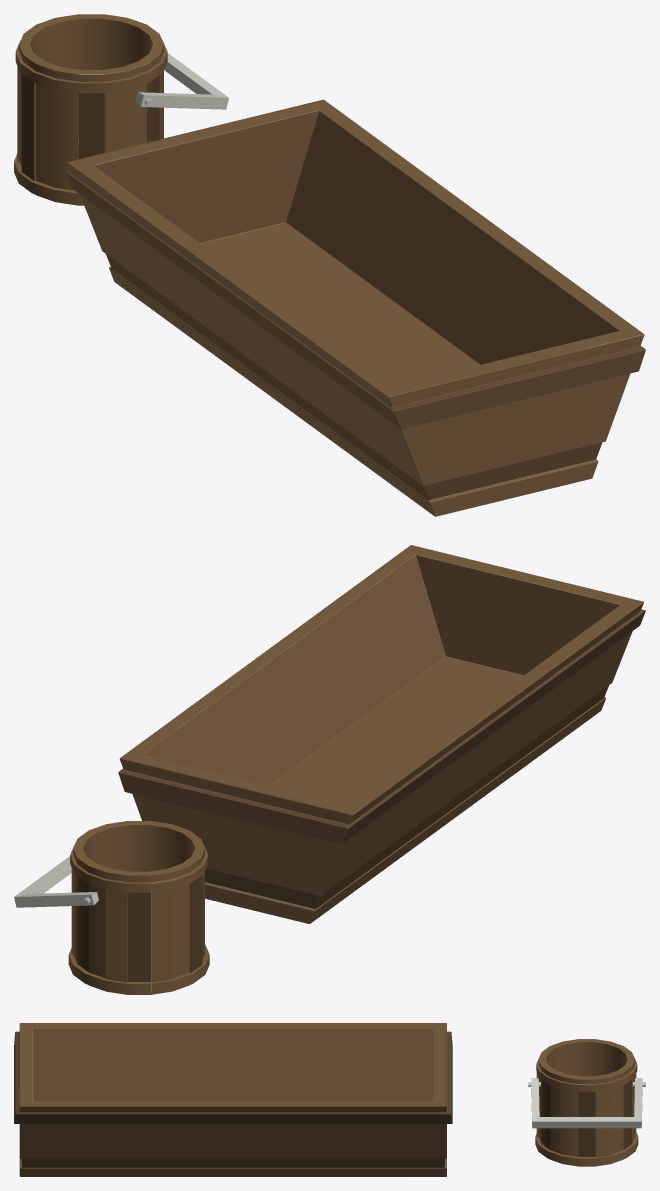
The model's file is SaleiroEBalde.glb.
3 views of the same model, one above another, from view 1: azimuth 30°, elevation 25°; view 2: azimuth 150°, elevation 25°; view 3: azimuth 270°, elevation 25° (orthographic). The views are drawn at different scales.
Visible parts, largest first — view 1: Cube, Cylinder; view 2: Cube, Cylinder; view 3: Cube, Cylinder.
Part boxes in pixels (x1,y1,x2,y2): Cube: (65, 99, 645, 516); Cylinder: (14, 14, 228, 205); Cube: (118, 545, 645, 923); Cylinder: (14, 821, 209, 994); Cube: (14, 1023, 452, 1176); Cylinder: (528, 1039, 645, 1166).
Size of what is drawn, in the model's own units: 4.09 by 2.14 by 13.11.
2 materials, 2 textured.
